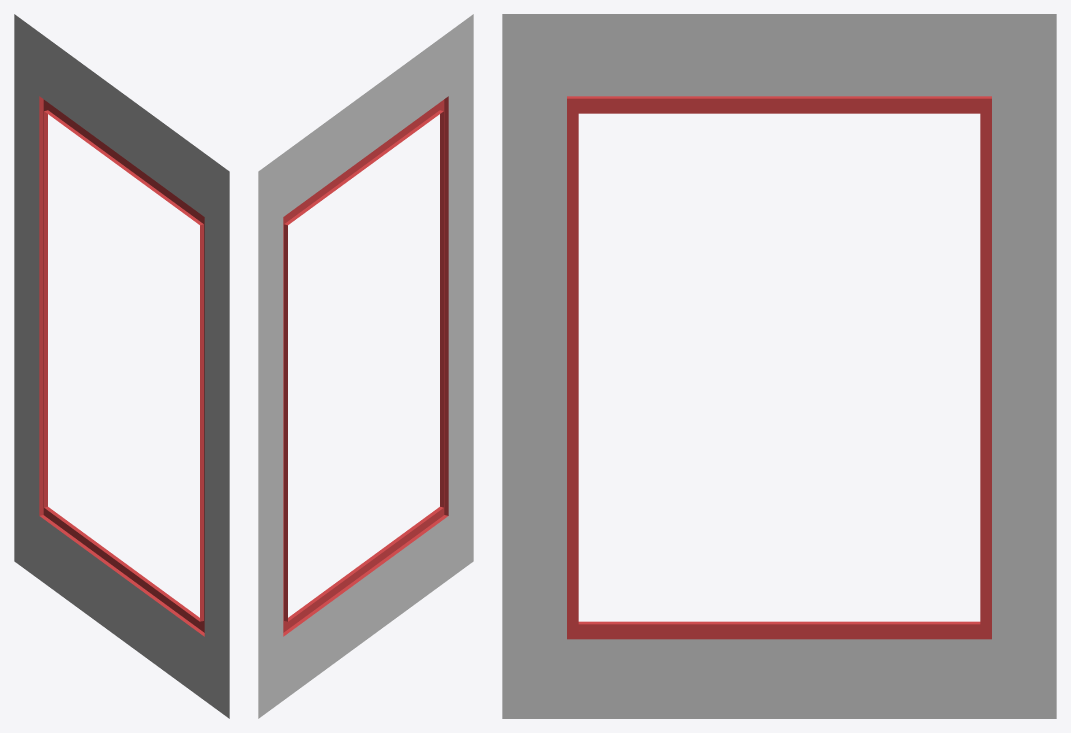
Rendered from EmplacementFenêtreCarré.glb.
3 renders of one model, left to right at view 1: azimuth 30°, elevation 25°; view 2: azimuth 150°, elevation 25°; view 3: azimuth 270°, elevation 25°, orthographic. The views are drawn at different scales.
Parts seen in each view (by area): view 1: Emplacementfenêtrecarré; view 2: Emplacementfenêtrecarré; view 3: Emplacementfenêtrecarré.
Part boxes in pixels (left/top/right/bottom): Emplacementfenêtrecarré: left=14, top=14, right=229, bottom=718; Emplacementfenêtrecarré: left=258, top=14, right=473, bottom=718; Emplacementfenêtrecarré: left=502, top=14, right=1056, bottom=718.
Bounding box in the file's own units: 0.0139 × 1.8 × 1.28.
